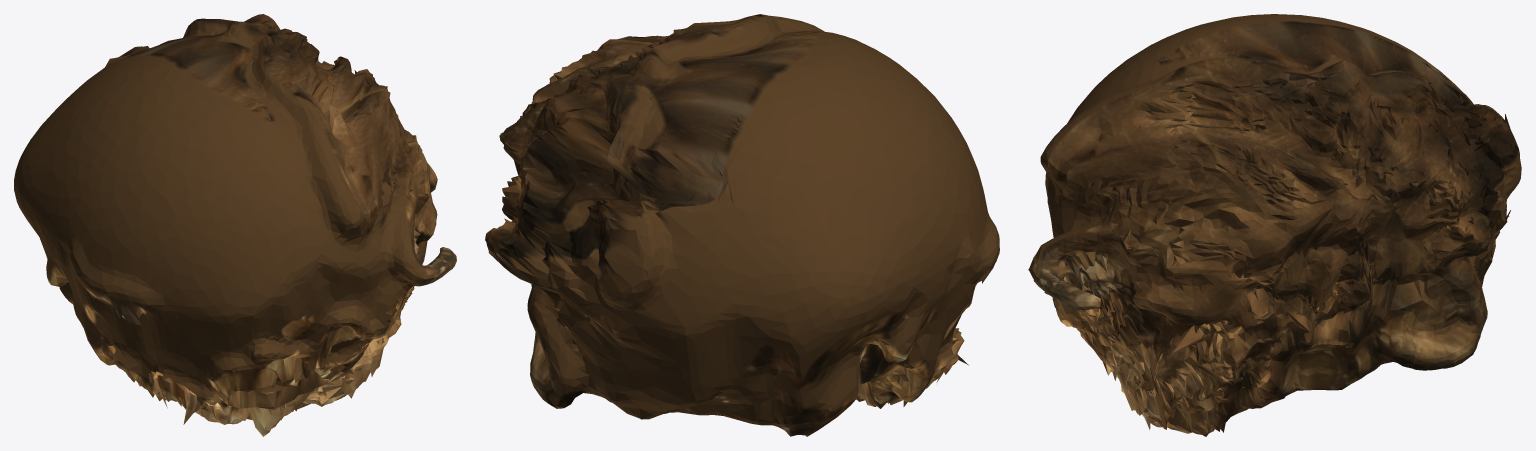
File: hair_canonical.obj
3 views of the same model, side by side, from view 1: azimuth 30°, elevation 25°; view 2: azimuth 150°, elevation 25°; view 3: azimuth 270°, elevation 25° (orthographic). The views are drawn at different scales.
Size of the model in its own units: 2.73 by 2.51 by 3.01.
1 material, 1 textured.
